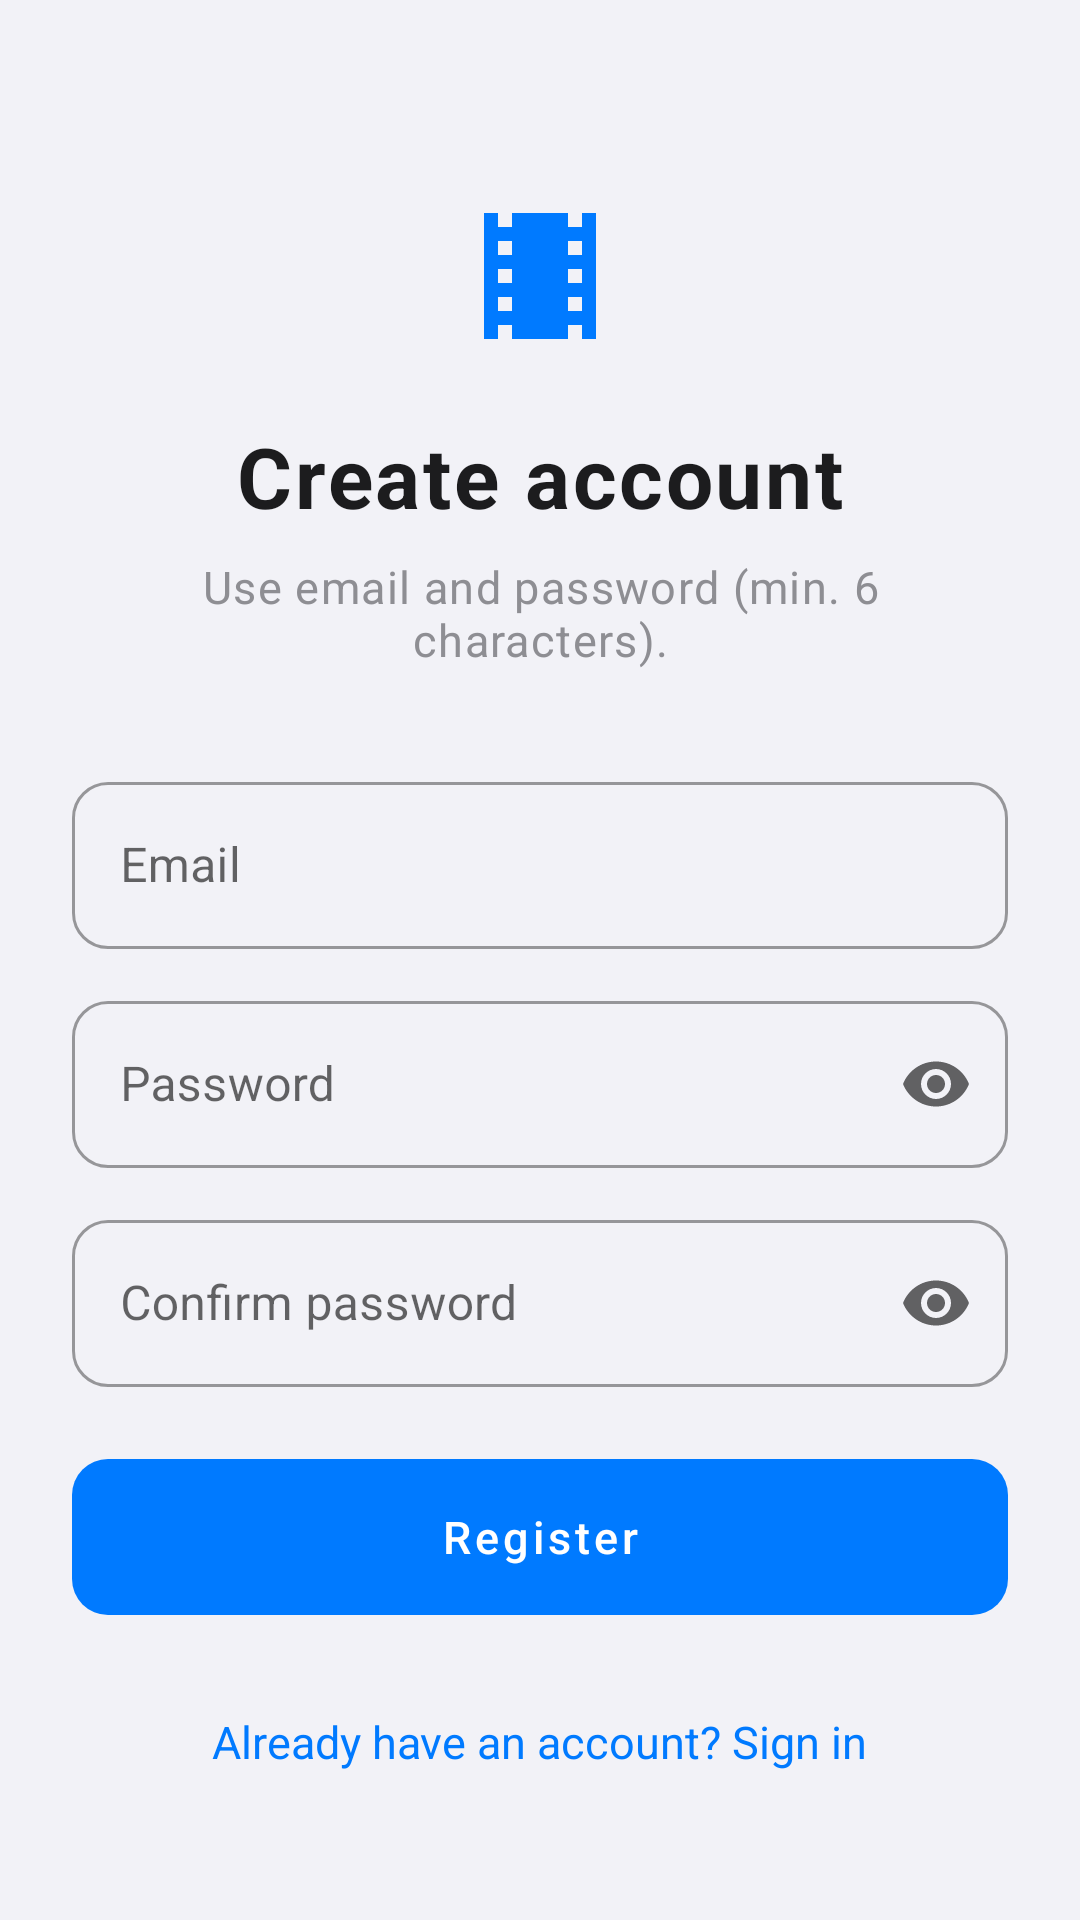

Icon click points for this 1080x1920 phone screenshot, format [x,y]:
movie: [540,276]
